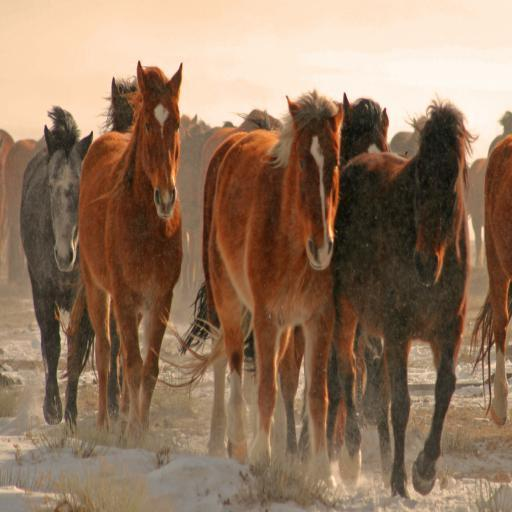horse: (0, 57, 512, 499)
